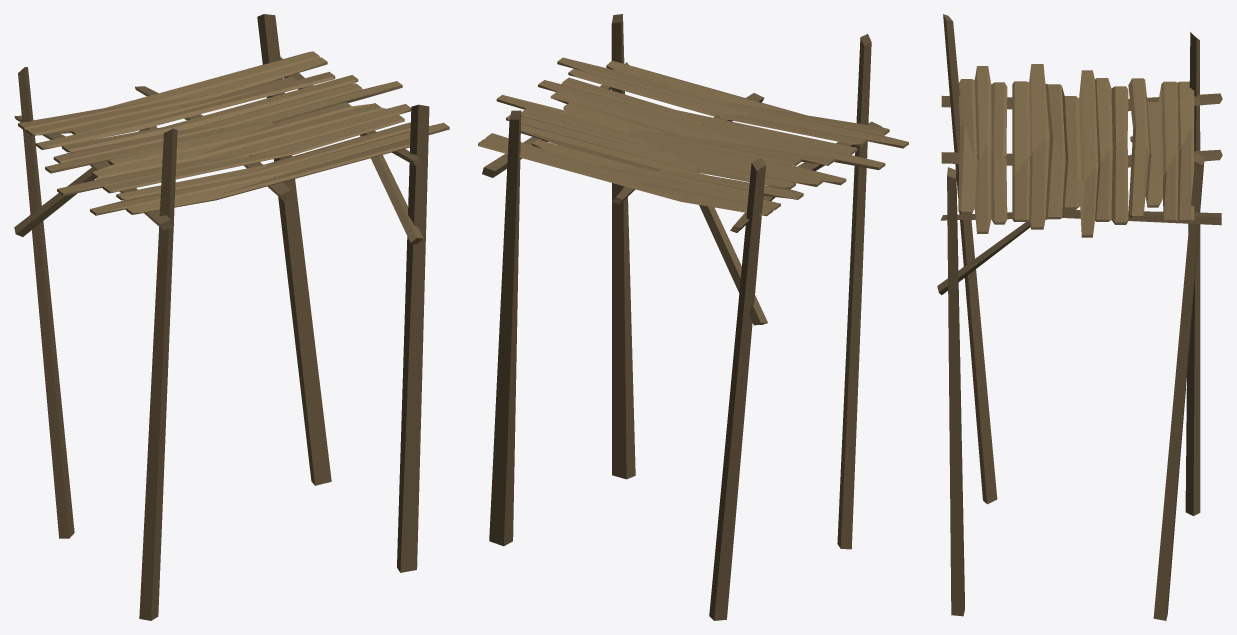
Rendered from SM_Bld_Rickety_Dock_Platform_02.fbx.
3 renders of one model, left to right at view 1: azimuth 30°, elevation 25°; view 2: azimuth 150°, elevation 25°; view 3: azimuth 270°, elevation 25°, orthographic. The views are drawn at different scales.
Visible parts, largest first — view 1: SM_Bld_Rickety_Dock_Platform_02; view 2: SM_Bld_Rickety_Dock_Platform_02; view 3: SM_Bld_Rickety_Dock_Platform_02.
Boxes of the visible parts, bbox=[...] form: SM_Bld_Rickety_Dock_Platform_02: bbox=[14, 14, 449, 620]; SM_Bld_Rickety_Dock_Platform_02: bbox=[478, 14, 908, 620]; SM_Bld_Rickety_Dock_Platform_02: bbox=[937, 14, 1222, 620].
Size of the model in its own units: 6.52 by 8.66 by 4.59.
